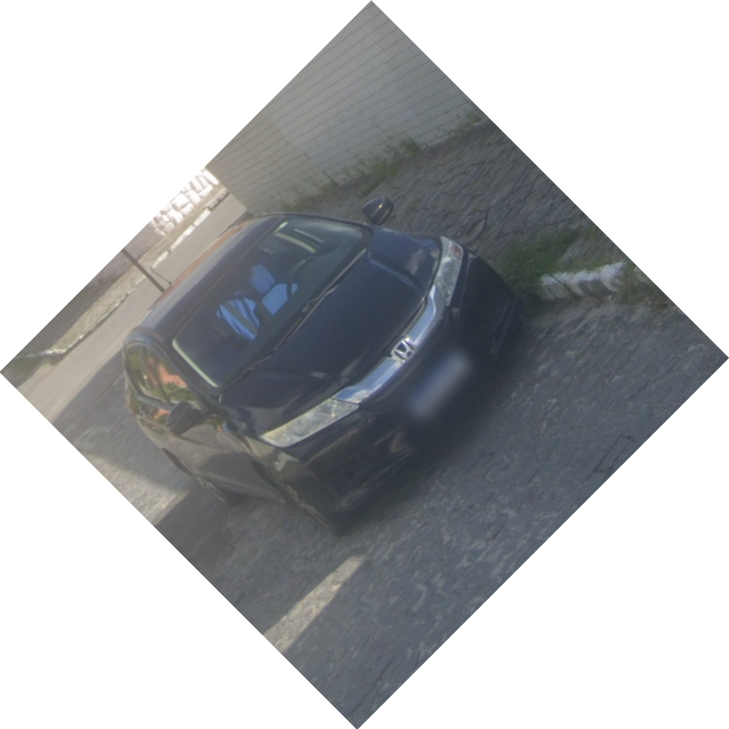car: (122, 193, 528, 539)
